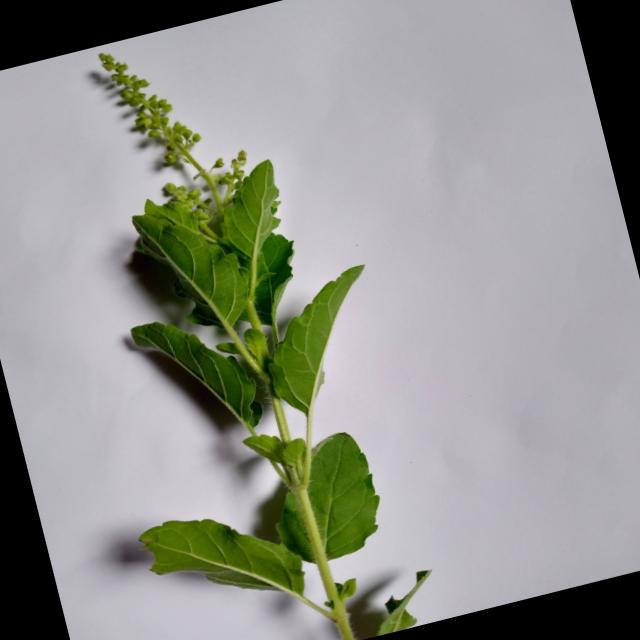tulsi: (12, 0, 453, 640)
